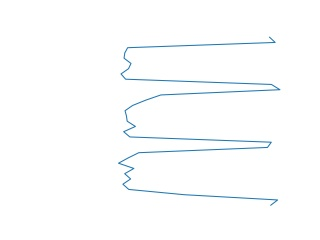majorRiverChannelBar: (116, 36, 282, 207)
